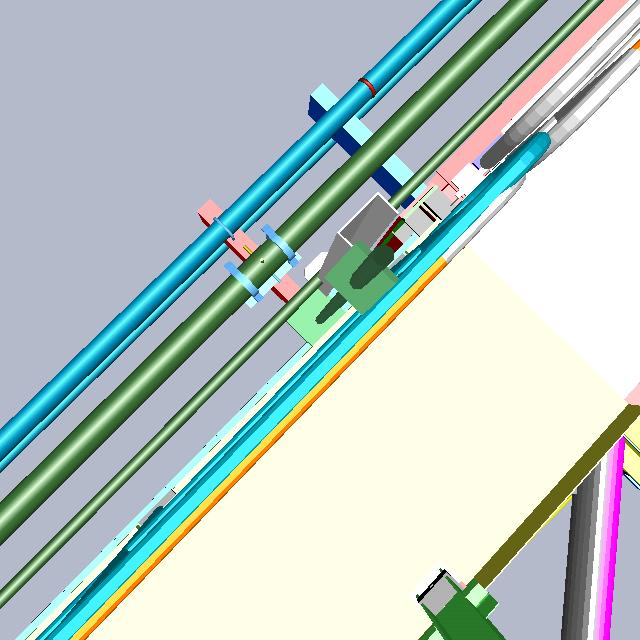Poste: (278, 240, 407, 351)
Soporte: (298, 189, 414, 299)
